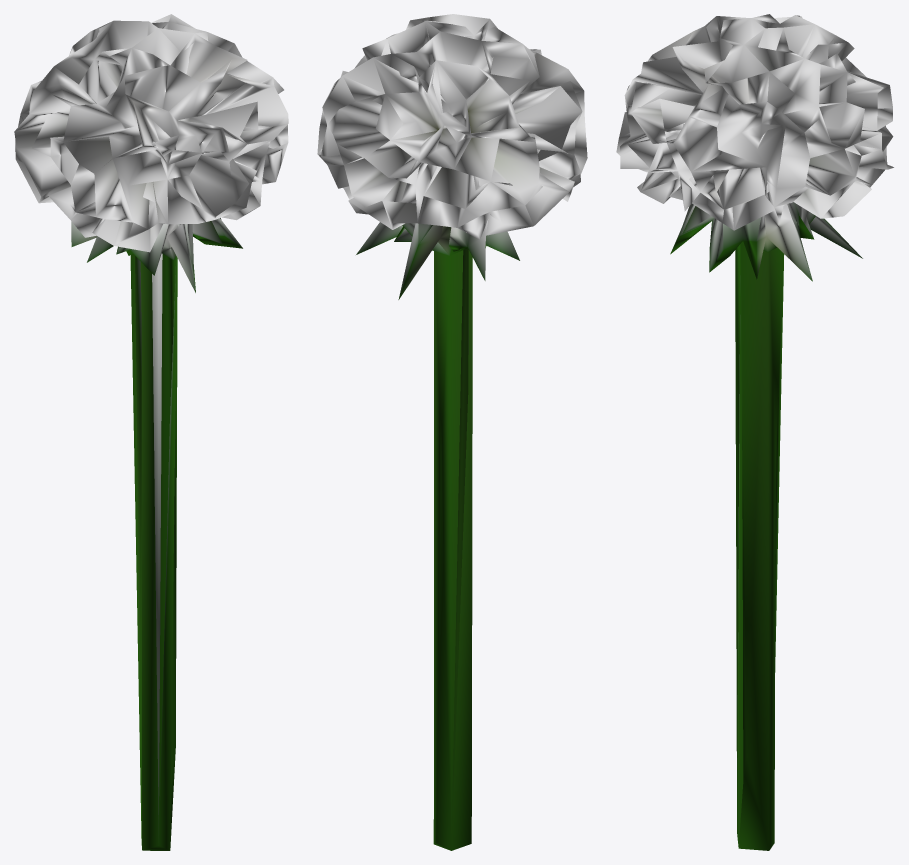
The model's file is gen3d-dandelion-lod1.glb.
3 renders of one model, left to right at view 1: azimuth 30°, elevation 25°; view 2: azimuth 150°, elevation 25°; view 3: azimuth 270°, elevation 25°, orthographic.
Visible parts, largest first — view 1: part_0; view 2: part_0; view 3: part_0.
Part boxes in pixels (left/top/right/bottom): part_0: left=14, top=14, right=288, bottom=850; part_0: left=317, top=14, right=587, bottom=850; part_0: left=616, top=14, right=893, bottom=850.
Size of the model in its own units: 0.2997 by 0.9998 by 0.3068.
